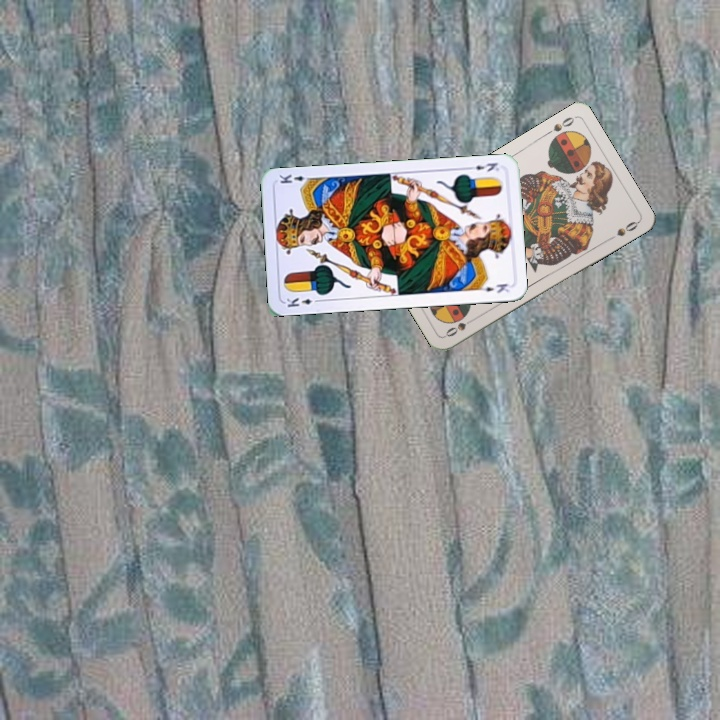EK: (282, 294, 323, 310), (463, 158, 502, 174)
SO: (441, 314, 479, 340), (540, 113, 577, 139)
